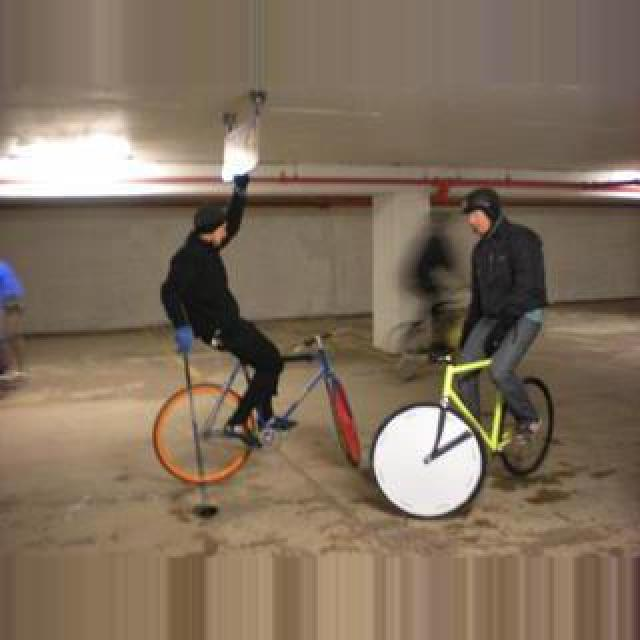MC-Bike: (164, 190, 286, 458), (454, 188, 546, 452)
Person: (152, 332, 362, 486), (374, 350, 554, 516)
